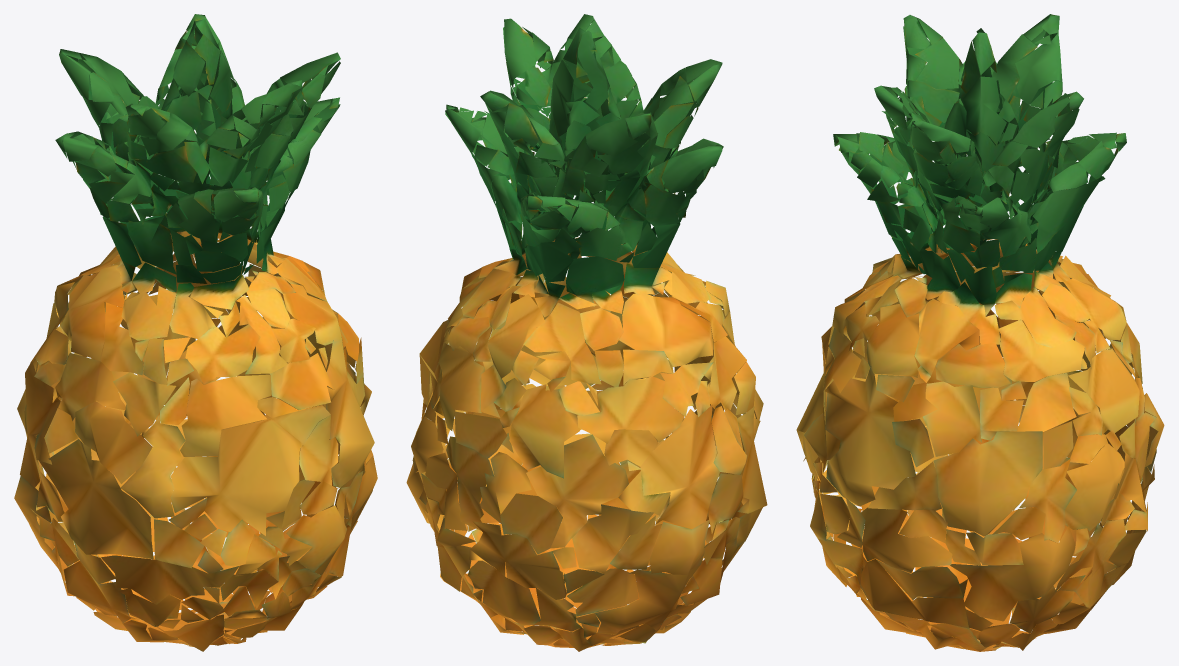
The model's file is art_pineapple.glb.
The picture shows the model from 3 angles, left to right: view 1: azimuth 30°, elevation 25°; view 2: azimuth 150°, elevation 25°; view 3: azimuth 270°, elevation 25°; orthographic projection.
Parts seen in each view (by area): view 1: Mesh_0; view 2: Mesh_0; view 3: Mesh_0.
Boxes of the visible parts, <box> form: Mesh_0: <box>14,14,377,651</box>; Mesh_0: <box>406,14,767,651</box>; Mesh_0: <box>796,14,1164,651</box>.
Bounding box in the file's own units: 1.07 × 1.91 × 1.06.
Materials: 1 (1 with a texture image).
